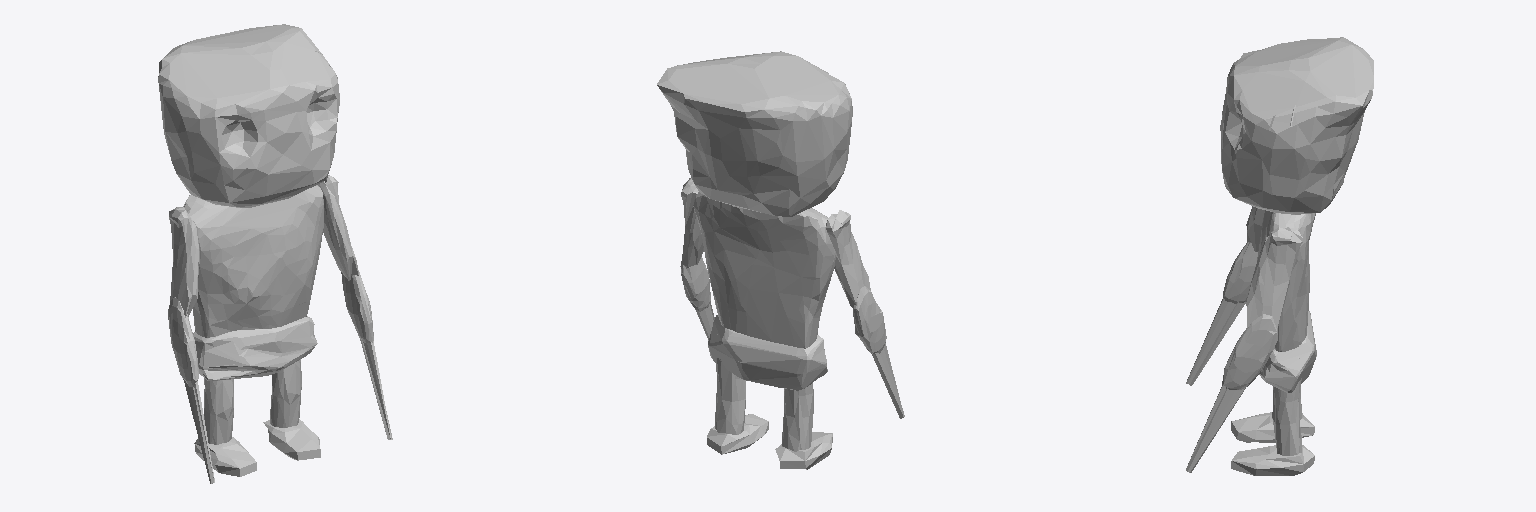
The model's file is golem 3.obj.
The picture shows the model from 3 angles: view 1: azimuth 30°, elevation 25°; view 2: azimuth 150°, elevation 25°; view 3: azimuth 270°, elevation 25°; orthographic projection.
Visible parts, largest first — view 1: Cube.094_Cube.095; view 2: Cube.094_Cube.095; view 3: Cube.094_Cube.095.
Boxes of the visible parts, x1,y1,x2,y2 form: Cube.094_Cube.095: [158, 24, 392, 483]; Cube.094_Cube.095: [657, 51, 904, 469]; Cube.094_Cube.095: [1186, 37, 1373, 475].
Bounding box in the file's own units: 1.71 × 3.48 × 1.51.